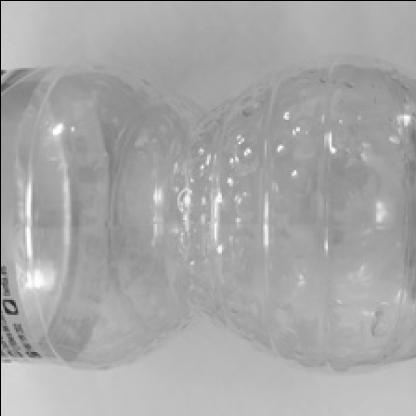plastic_bottles: (0, 67, 415, 371)
